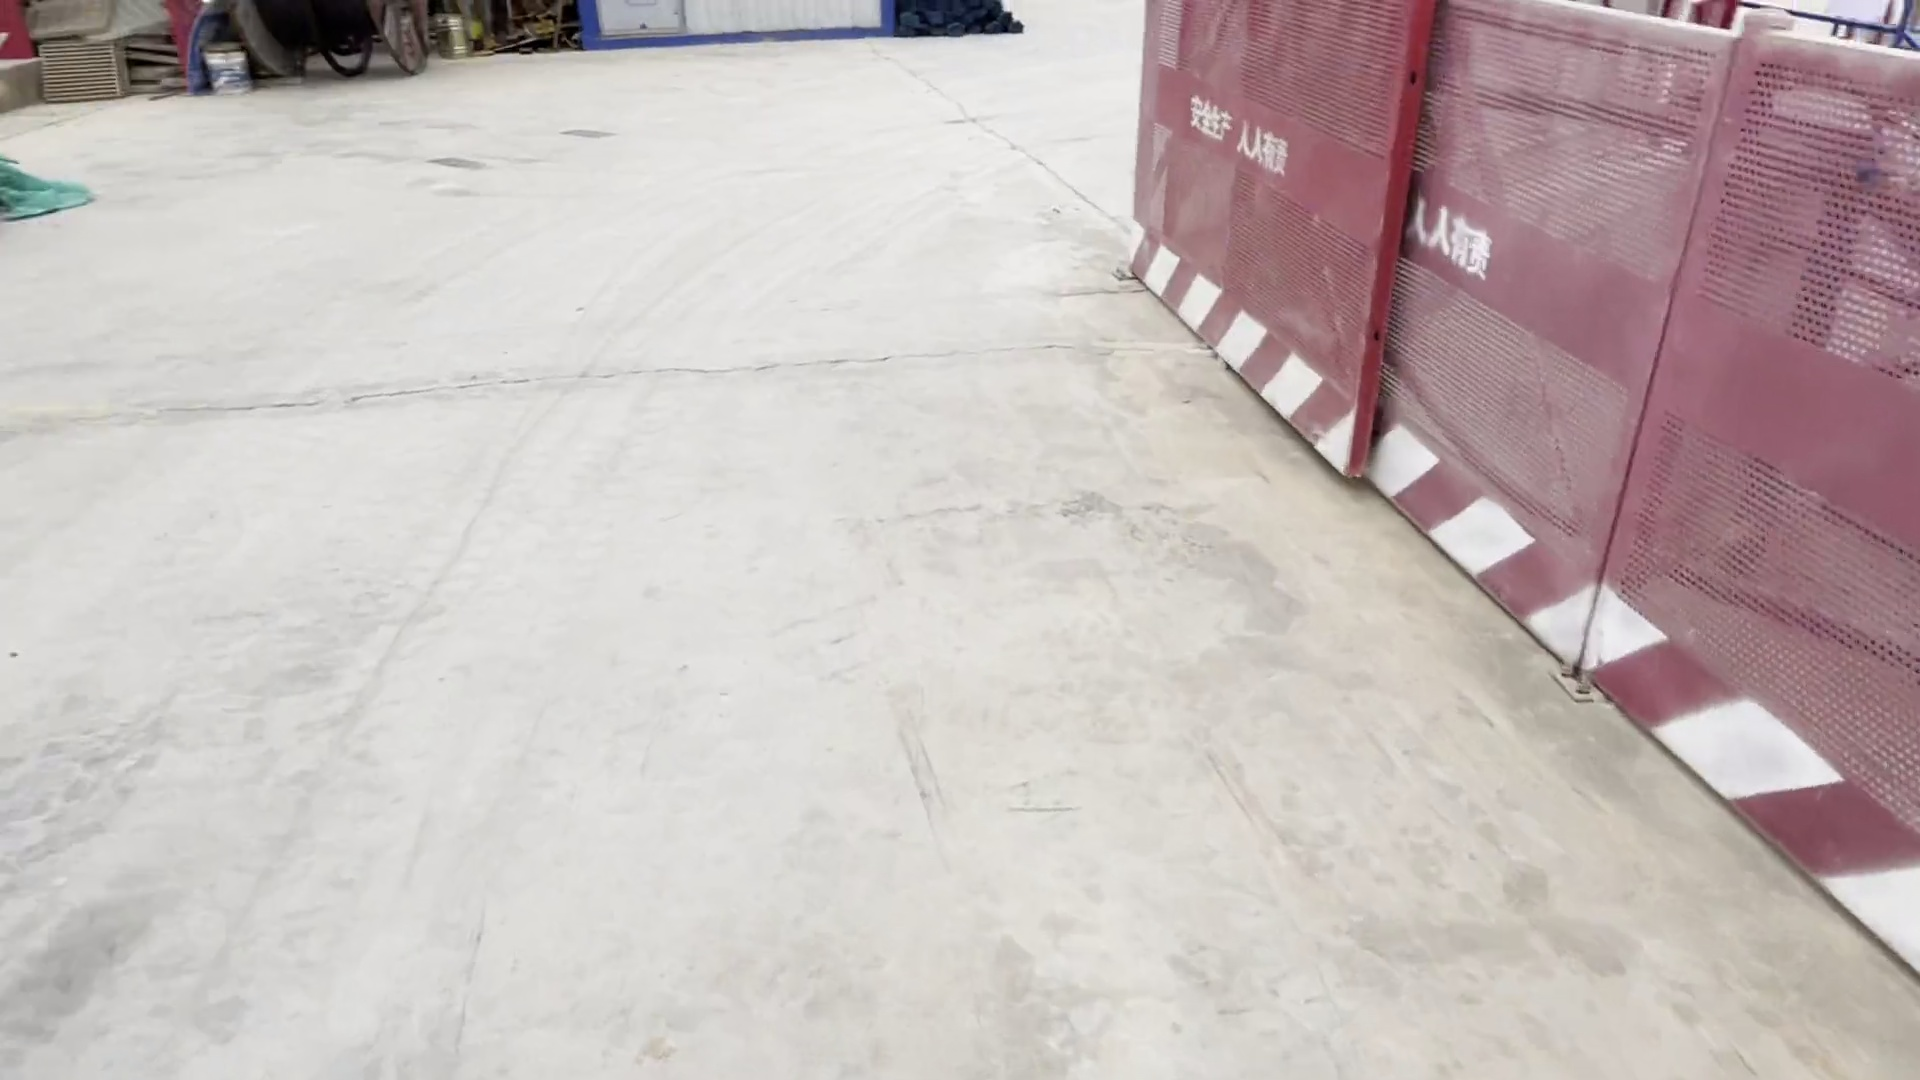fence: (1575, 9, 1920, 993), (1383, 18, 1734, 686), (1120, 1, 1365, 489)
